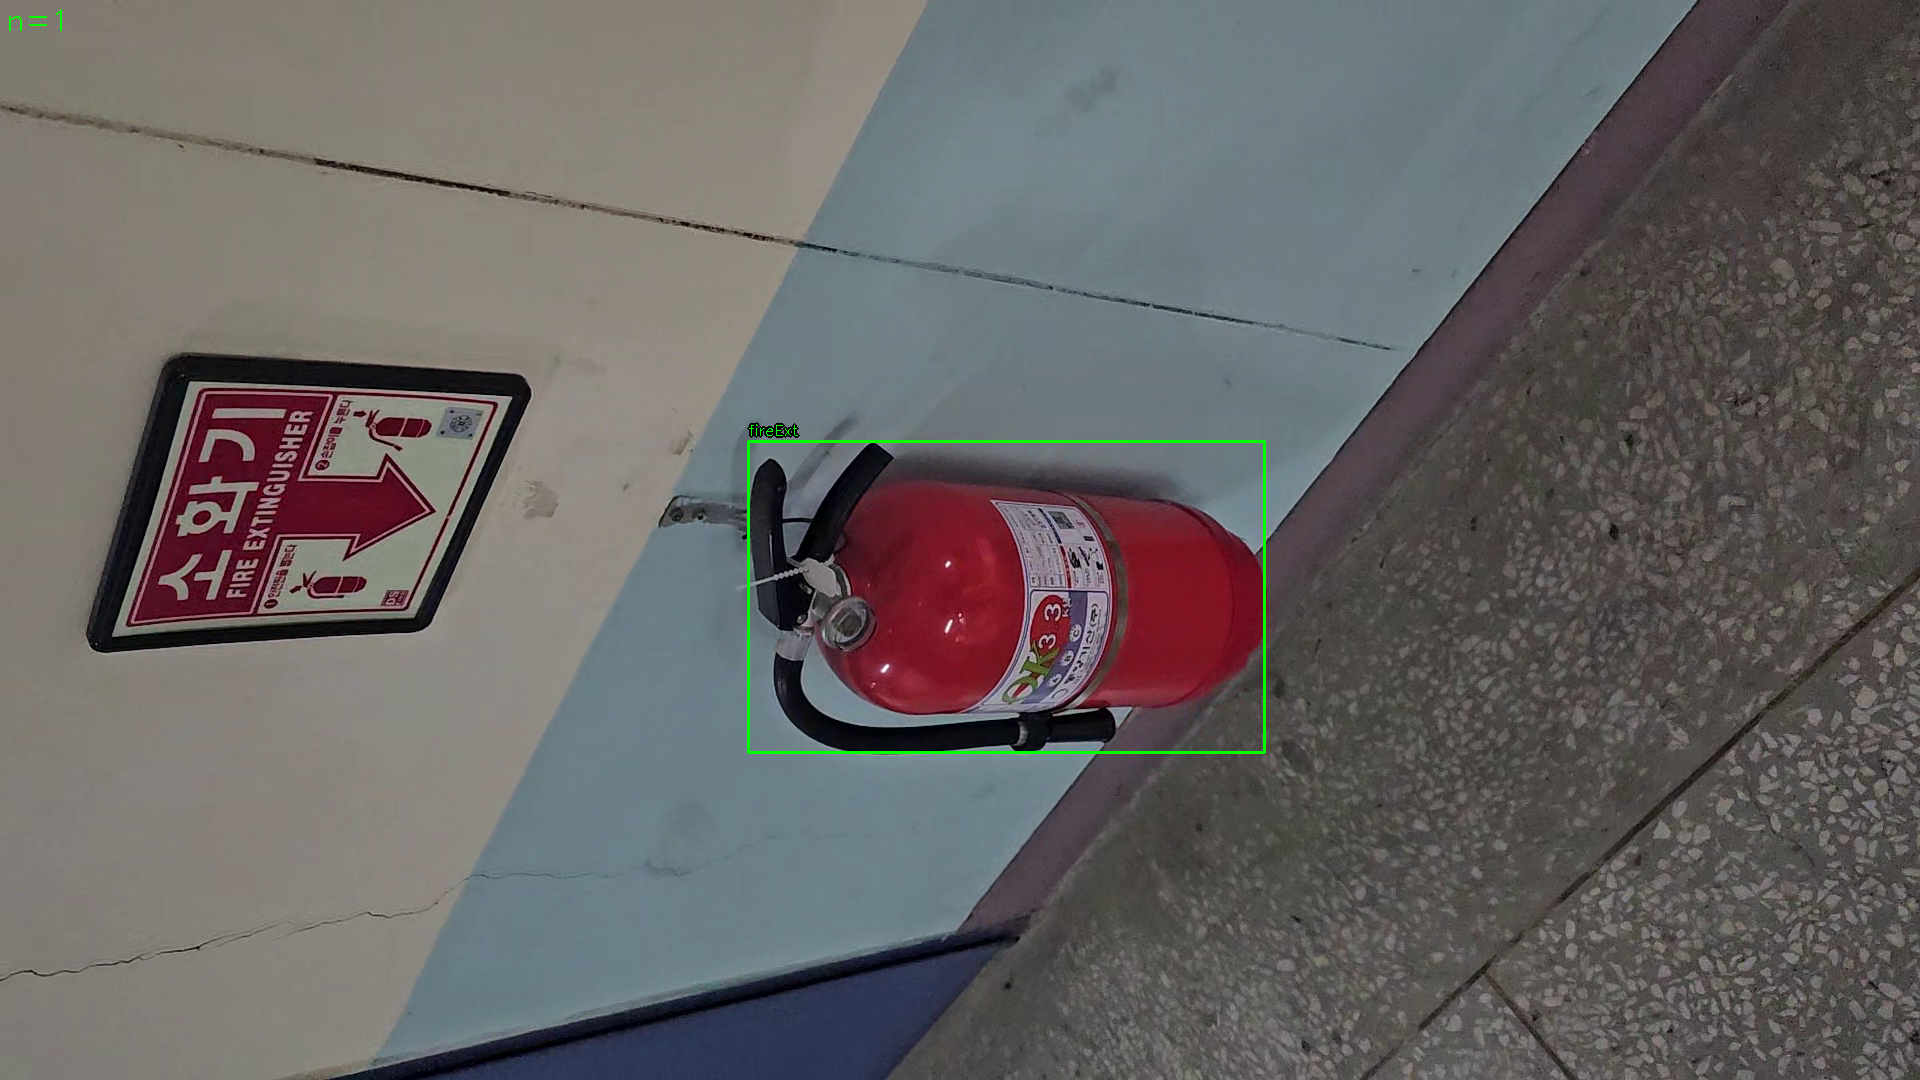lane: (748, 440, 1265, 753)
